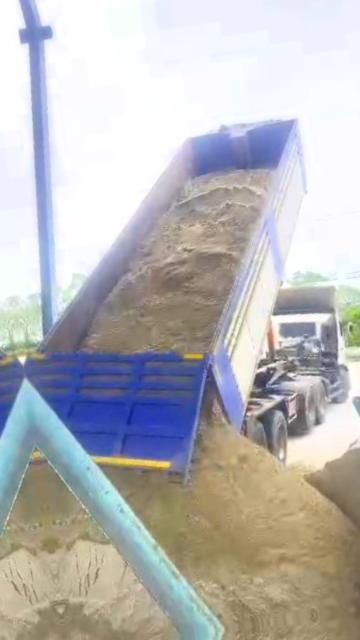sand: (109, 407, 360, 628), (82, 169, 271, 352), (39, 466, 169, 640), (307, 435, 360, 544)
